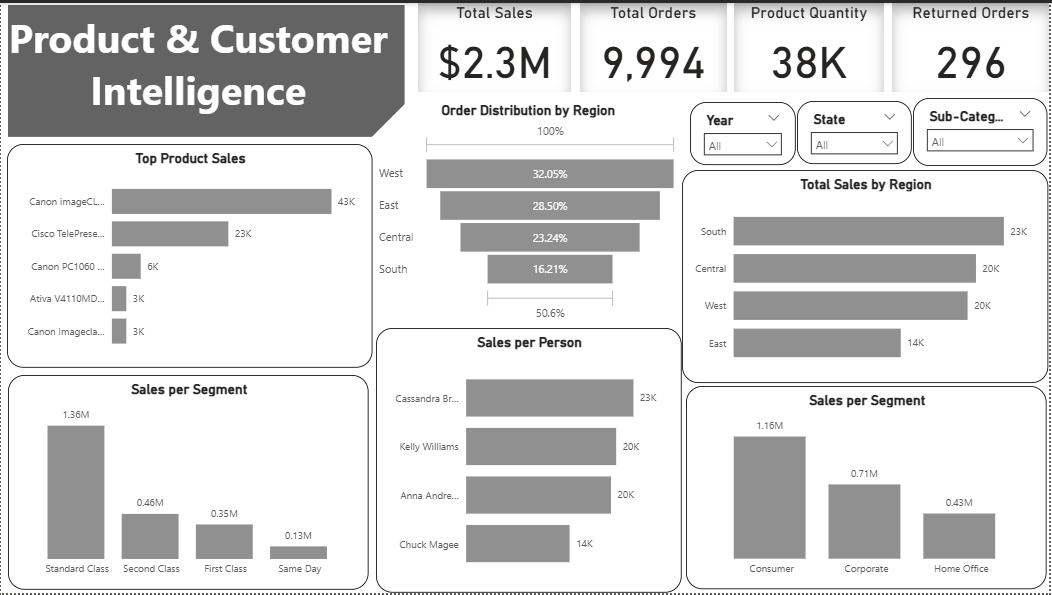

What the dashboard file says about the page in this screenshot:
{"tool":"powerbi","page":{"name":"Product & Customer Intelligence","canvas":[1280,720],"ordinal":1},"visuals":[{"type":"card","title":"Returned Orders","fields":{"Values":["Returns.Order ID"]},"box":[1087.3,0,192.7,108.7],"z":0},{"type":"card","title":"Total Orders","fields":{"Values":["Orders.Order ID"]},"box":[706.4,0,178.9,108.7],"z":1000},{"type":"card","title":"Total Sales","fields":{"Values":["Orders.TotalSales"]},"box":[509.2,0,187.2,108.7],"z":2000},{"type":"clusteredBarChart","title":"Top Product Sales","fields":{"Category":["Orders.Product Name"],"Y":["Orders.Sales"]},"box":[6.9,172,445.9,272.5],"z":3000},{"type":"slicer","fields":{"Values":["Orders.Order Date.Variation.Date Hierarchy.Year"]},"box":[840.9,121.1,129.4,77.1],"z":4000},{"type":"slicer","fields":{"Values":["Orders.Sub-Category"]},"box":[1113.5,115.6,163.8,82.6],"z":5000},{"type":"clusteredBarChart","title":"Total Sales by Region","fields":{"Y":["Orders.Sales"],"Category":["Orders.Region"]},"box":[831.3,203.7,447.3,260.1],"z":6000},{"type":"funnel","title":"Order Distribution by Region","fields":{"Category":["Orders.Region"],"Y":["Divide(CountNonNull(Orders.Order ID), ScopedEval(CountNonNull(Orders.Order ID), []))"]},"box":[456.9,121.1,374.4,272.5],"z":7000},{"type":"clusteredBarChart","title":"Sales per Person","fields":{"Category":["People.Person"],"Y":["Orders.Sales"]},"box":[457.5,396.4,373,323.4],"z":8000},{"type":"clusteredColumnChart","title":"Sales per Segment","fields":{"Y":["Orders.Sales"],"Category":["Orders.Segment"]},"box":[836,468,440.4,247.7],"z":9000},{"type":"card","title":"Product Quantity","fields":{"Values":["Orders.Quantity"]},"box":[894.6,0,183.1,108.7],"z":10000},{"type":"shape","box":[8.3,2.8,484.5,161],"z":11000},{"type":"clusteredColumnChart","title":"Sales per Segment","fields":{"Y":["Orders.Sales"],"Category":["Orders.Ship Mode"]},"box":[8.3,454.2,440.4,261.5],"z":12000},{"type":"slicer","fields":{"Values":["Orders.State"]},"box":[971.7,119.7,140.4,77.1],"z":13000}]}

Visuals, with their boxes in screenshot pixels (x1, y1, x2, y2), scaled from the page's 1280x720 canvas onto the 1052x595 screenshot:
"Returned Orders" card: l=894, t=0, r=1051, b=90
"Total Orders" card: l=581, t=0, r=728, b=90
"Total Sales" card: l=418, t=0, r=572, b=90
"Top Product Sales" clusteredBarChart: l=6, t=142, r=372, b=367
slicer - Orders.Order Date.Variation.Date Hierarchy.Year: l=691, t=100, r=797, b=164
slicer - Orders.Sub-Category: l=915, t=96, r=1050, b=164
"Total Sales by Region" clusteredBarChart: l=683, t=168, r=1051, b=383
"Order Distribution by Region" funnel: l=376, t=100, r=683, b=325
"Sales per Person" clusteredBarChart: l=376, t=328, r=683, b=594
"Sales per Segment" clusteredColumnChart: l=687, t=387, r=1049, b=591
"Product Quantity" card: l=735, t=0, r=886, b=90
shape: l=7, t=2, r=405, b=135
"Sales per Segment" clusteredColumnChart: l=7, t=375, r=369, b=591
slicer - Orders.State: l=799, t=99, r=914, b=163
